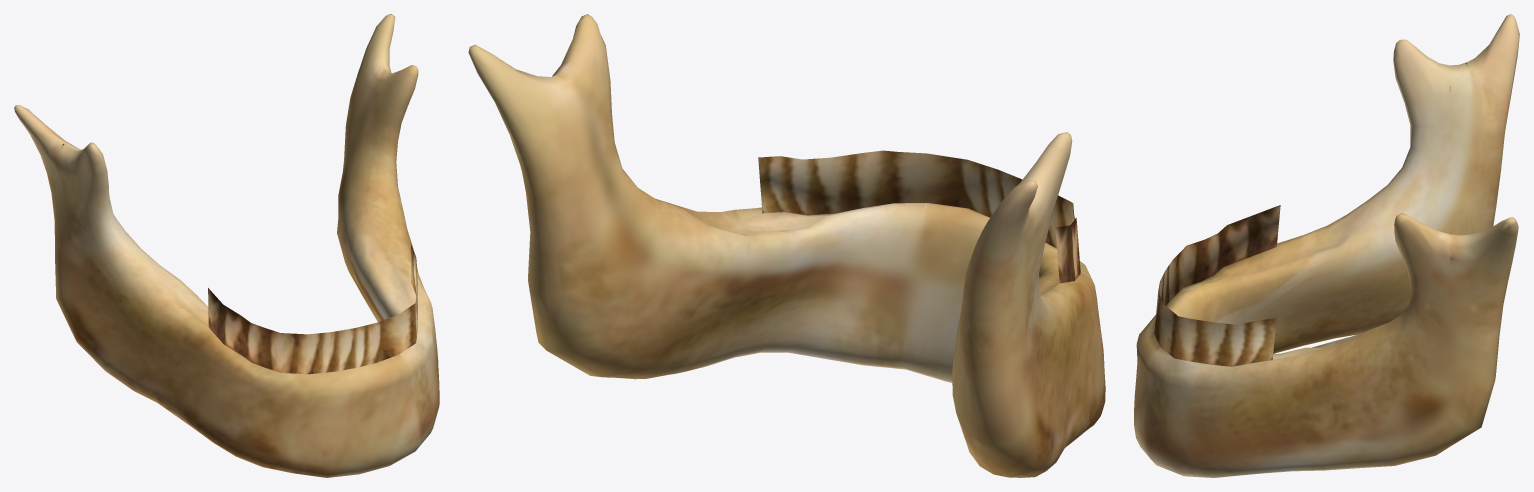
The model's file is jaw.glb.
The picture shows the model from 3 angles, left to right: view 1: azimuth 30°, elevation 25°; view 2: azimuth 150°, elevation 25°; view 3: azimuth 270°, elevation 25°; orthographic projection. The views are drawn at different scales.
Visible parts, largest first — view 1: Mandibula; view 2: Mandibula; view 3: Mandibula.
Part boxes in pixels (x1,y1,x2,y2): Mandibula: (14,14,439,477); Mandibula: (468,14,1105,477); Mandibula: (1134,14,1519,477).
Bounding box in the file's own units: 0.4565 × 0.3418 × 0.3609.
1 material, 1 textured.
